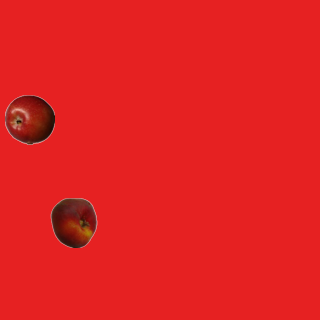Apple Braeburn: (4, 94, 54, 144)
Nectarine Flat: (48, 197, 98, 247)
